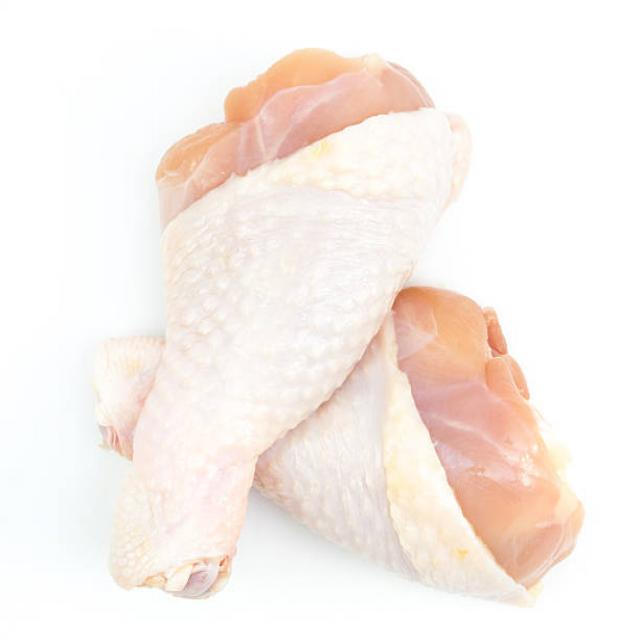Chicken Thigh: (126, 51, 460, 593)
